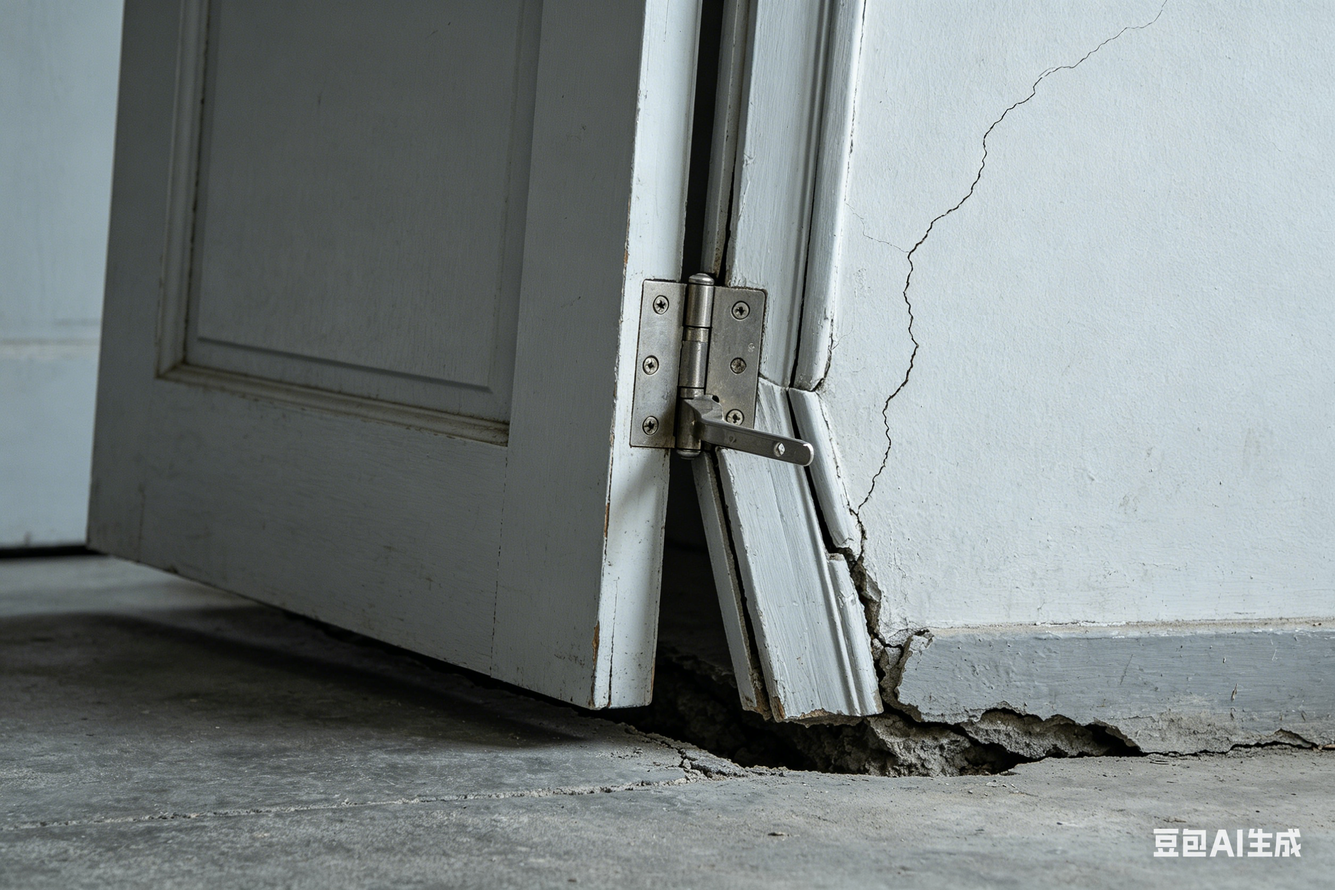BadLock: (620, 356, 822, 469)
